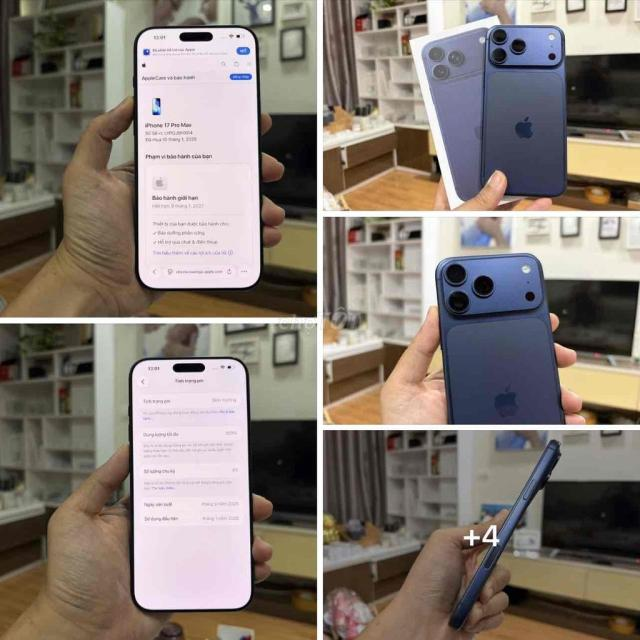gen_17: (129, 23, 273, 295), (128, 357, 260, 626), (428, 238, 583, 430), (483, 23, 582, 207)
